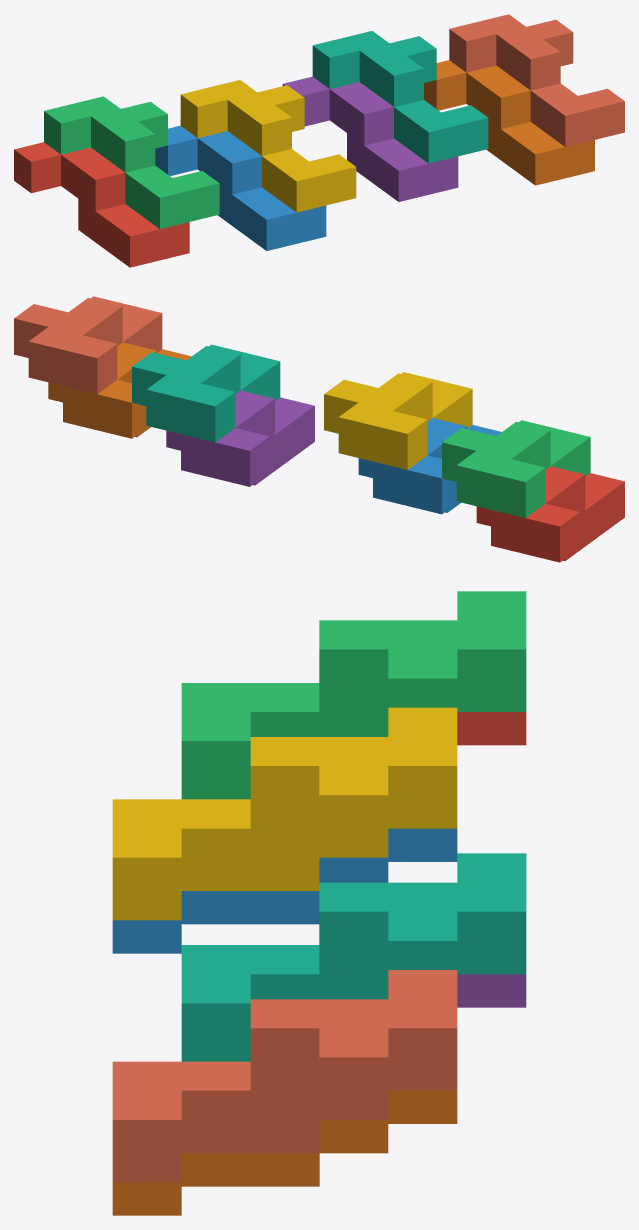
The model's file is tiling.obj.
3 views of the same model, one above another, from view 1: azimuth 30°, elevation 25°; view 2: azimuth 150°, elevation 25°; view 3: azimuth 270°, elevation 25° (orthographic). The views are drawn at different scales.
Visible parts, largest first — view 1: copy_1_domain_8, copy_1_domain_4, copy_1_domain_7, copy_1_domain_3, copy_1_domain_1, copy_1_domain_2, copy_1_domain_6, copy_1_domain_5; view 2: copy_1_domain_3, copy_1_domain_7, copy_1_domain_4, copy_1_domain_8, copy_1_domain_5, copy_1_domain_1, copy_1_domain_2, copy_1_domain_6; view 3: copy_1_domain_8, copy_1_domain_4, copy_1_domain_7, copy_1_domain_3, copy_1_domain_6, copy_1_domain_2, copy_1_domain_5, copy_1_domain_1.
Part boxes in pixels (x1=…): copy_1_domain_8: x1=449, y1=14, x2=624, y2=146; copy_1_domain_4: x1=180, y1=80, x2=356, y2=212; copy_1_domain_7: x1=312, y1=31, x2=488, y2=163; copy_1_domain_3: x1=44, y1=96, x2=219, y2=228; copy_1_domain_1: x1=14, y1=142, x2=189, y2=267; copy_1_domain_2: x1=155, y1=125, x2=326, y2=250; copy_1_domain_6: x1=424, y1=60, x2=594, y2=185; copy_1_domain_5: x1=282, y1=76, x2=458, y2=201; copy_1_domain_3: x1=442, y1=420, x2=590, y2=517; copy_1_domain_7: x1=132, y1=344, x2=280, y2=442; copy_1_domain_4: x1=324, y1=372, x2=472, y2=469; copy_1_domain_8: x1=14, y1=296, x2=162, y2=394; copy_1_domain_5: x1=166, y1=390, x2=314, y2=486; copy_1_domain_1: x1=476, y1=466, x2=624, y2=562; copy_1_domain_2: x1=358, y1=418, x2=501, y2=514; copy_1_domain_6: x1=48, y1=342, x2=191, y2=438; copy_1_domain_8: x1=112, y1=970, x2=457, y2=1182; copy_1_domain_4: x1=112, y1=707, x2=457, y2=920; copy_1_domain_7: x1=181, y1=853, x2=526, y2=1061; copy_1_domain_3: x1=181, y1=591, x2=526, y2=799; copy_1_domain_6: x1=112, y1=1090, x2=457, y2=1215; copy_1_domain_2: x1=112, y1=828, x2=457, y2=953; copy_1_domain_5: x1=457, y1=974, x2=526, y2=1007; copy_1_domain_1: x1=457, y1=712, x2=526, y2=745.
Bounding box in the file's own units: 17 × 3 × 6.
